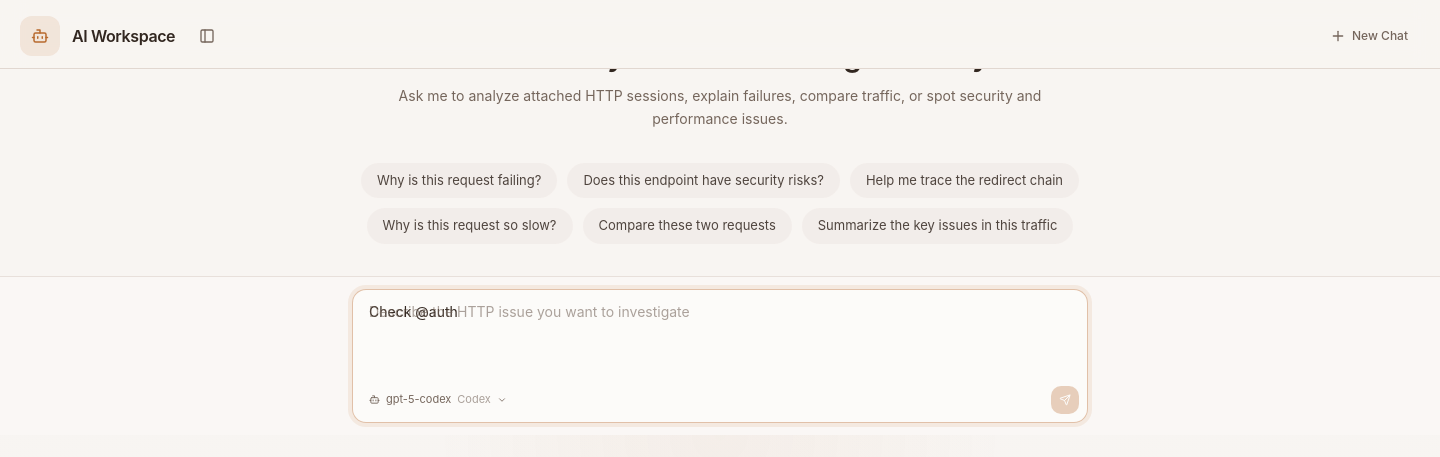
Test case: AIWorkspacePage › inserts an inline @ token from the mention picker and syncs selected sessions
Clear the field with test id "ai-composer-editor": (413, 311) [369, 302, 458, 320]
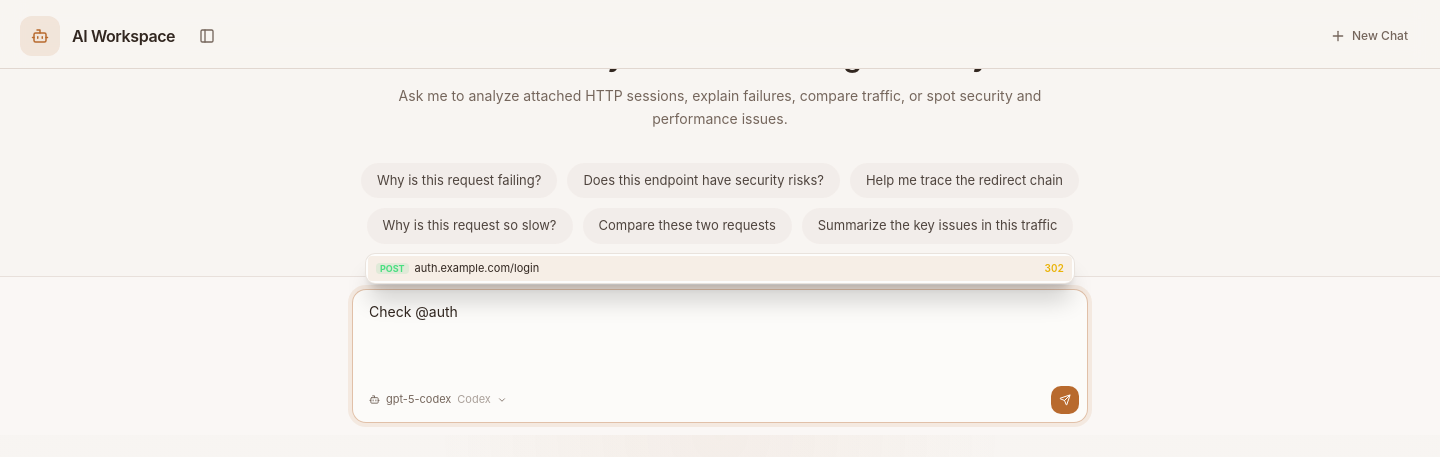
Press the mouse on the button with test id "ai-mention-option-session-2": (392, 269) [368, 256, 1072, 281]
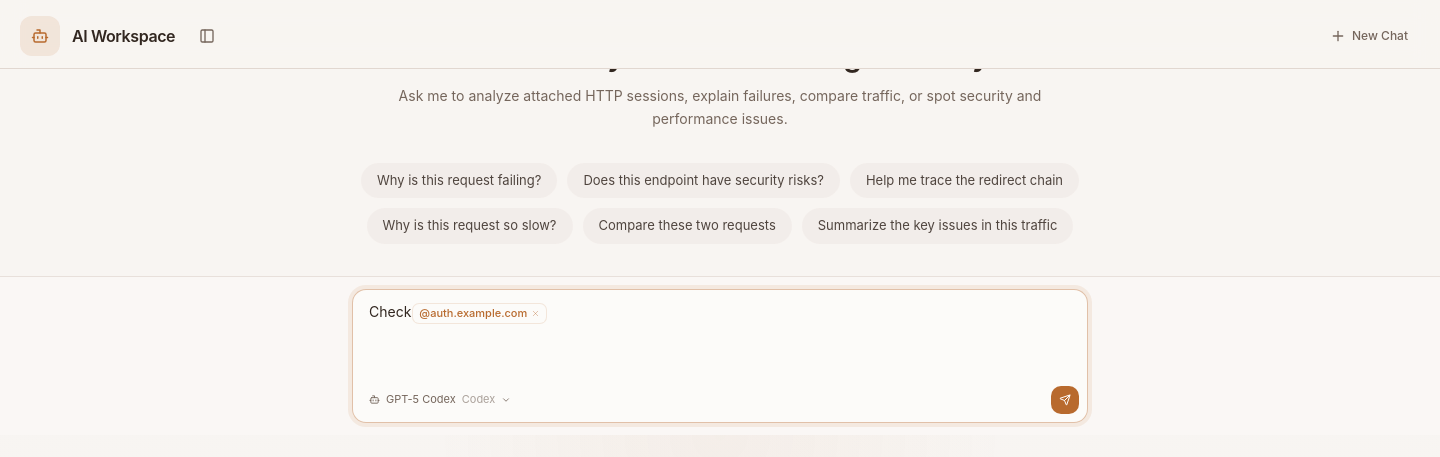
Check: the text "@auth.example.com" is shown, box [419, 308, 527, 318]
